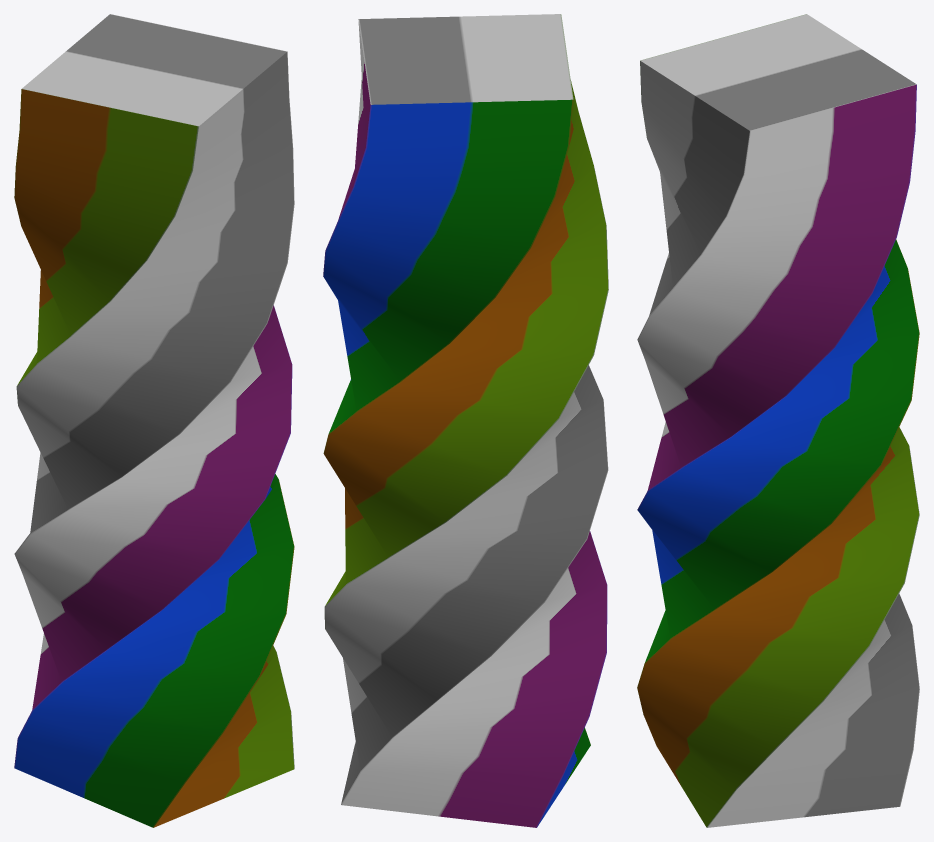
The model's file is statue.fbx.
3 views of the same model, side by side, from view 1: azimuth 30°, elevation 25°; view 2: azimuth 150°, elevation 25°; view 3: azimuth 270°, elevation 25° (orthographic). The views are drawn at different scales.
Parts seen in each view (by area): view 1: statue; view 2: statue; view 3: statue.
Boxes of the visible parts, bbox=[...] form: statue: bbox=[14, 14, 294, 827]; statue: bbox=[323, 14, 608, 827]; statue: bbox=[637, 14, 919, 827].
Size of the model in its own units: 503 by 1382 by 503.
